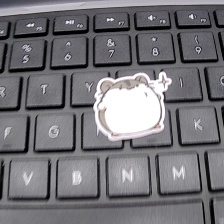mouse: (94, 66, 171, 142)
